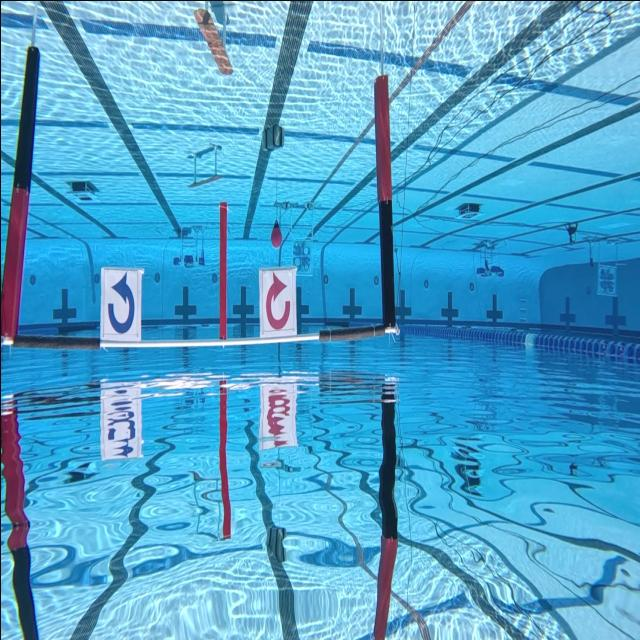blue_side: (94, 255, 144, 352)
red_side: (253, 258, 301, 349)
